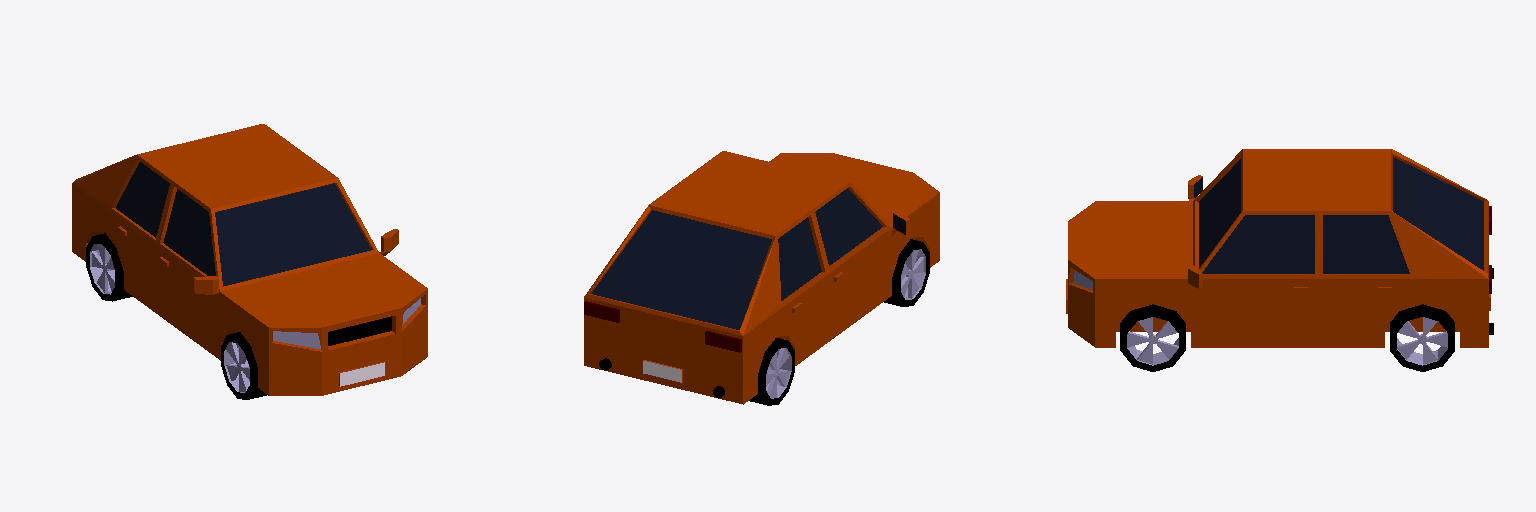
Rendered from hatchback.obj.
The picture shows the model from 3 angles: view 1: azimuth 30°, elevation 25°; view 2: azimuth 150°, elevation 25°; view 3: azimuth 270°, elevation 25°; orthographic projection.
Visible parts, largest first — view 1: Hatchback; view 2: Hatchback; view 3: Hatchback.
Part boxes in pixels (bbox=[...]): Hatchback: bbox=[72, 124, 427, 399]; Hatchback: bbox=[584, 151, 939, 405]; Hatchback: bbox=[1066, 149, 1493, 371].
Size of the model in its own units: 2.81 by 2.01 by 5.11.